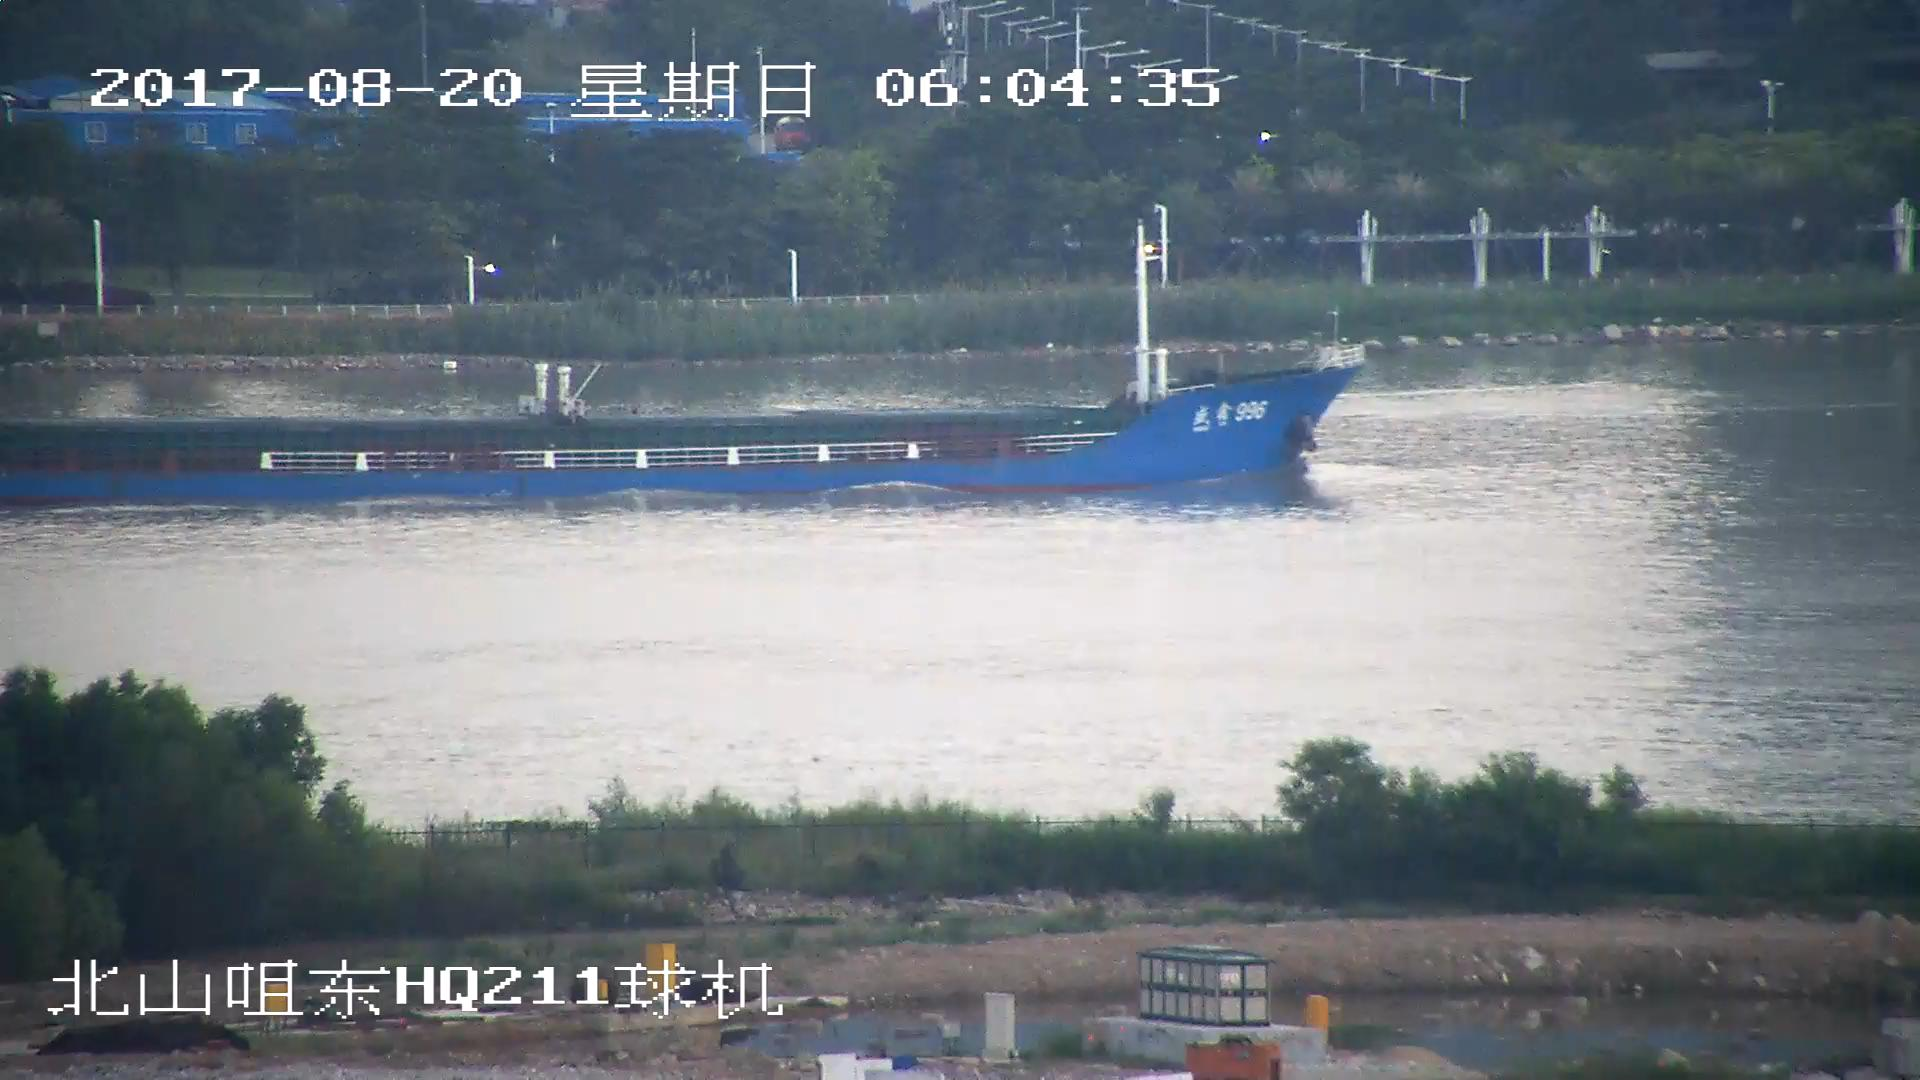general cargo ship: (1, 269, 1353, 510)
